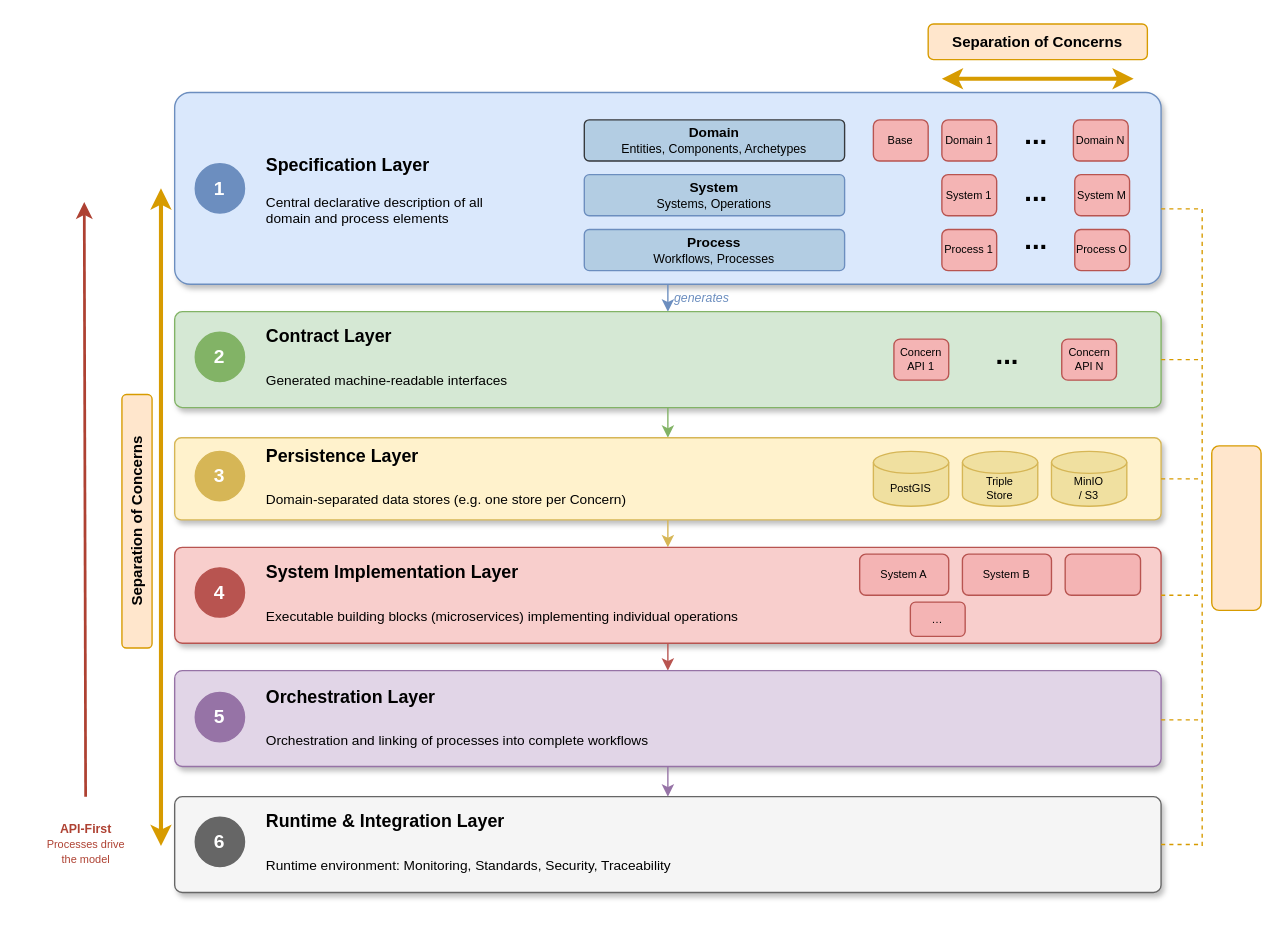
This 1285x926 diagram has some shape labels left out. The centre of each missing label's shape, as x and y in pixels:
Linked Data UUID / URI: the point at 1235,527
System C: the point at 1102,574
